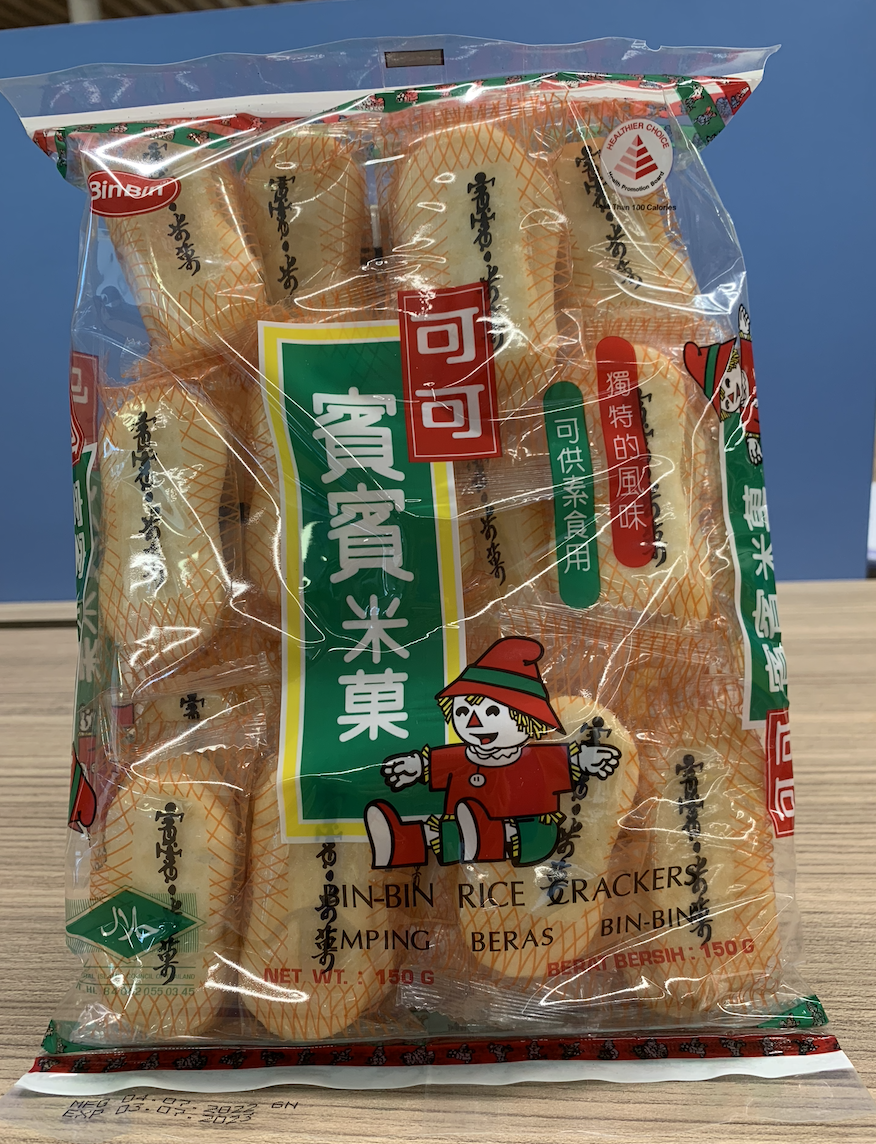crackers_100g-199g: (79, 104, 783, 1027)
